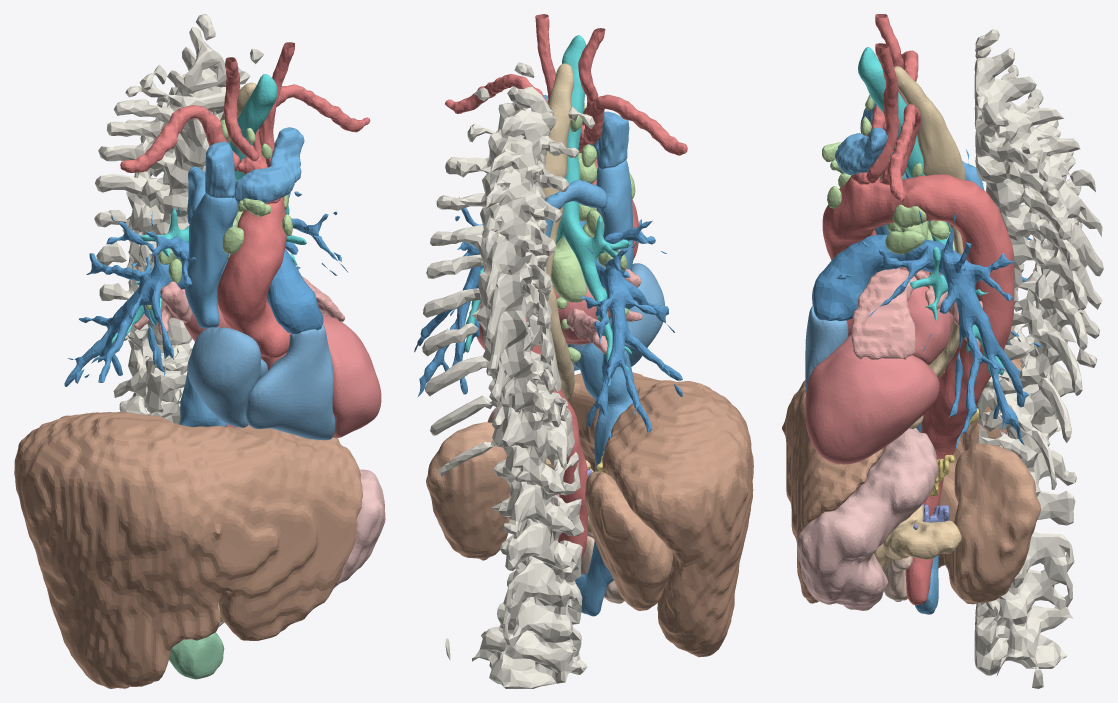
File: eus_b_anatomy.glb
The picture shows the model from 3 angles, left to right: view 1: azimuth 30°, elevation 25°; view 2: azimuth 150°, elevation 25°; view 3: azimuth 270°, elevation 25°; orthographic projection. The views are drawn at different scales.
Parts seen in each view (by area): view 1: liver, spine, pulmonary_artery, right_ventricle, aorta, right_atrium, left_ventricle, superior_vena_cava, left_brachiocephalic_vein, airway, stomach, right_subclavian_artery (+9 smaller); view 2: spine, liver, pulmonary_artery, left_kidney, right_kidney, airway, inferior_vena_cava, esophagus, superior_vena_cava, right_subclavian_artery, aorta, right_atrium (+10 smaller); view 3: spine, aorta, stomach, pulmonary_artery, left_ventricle, left_kidney, liver, left_atrial_appendage, esophagus, airway, pancreas, left_atrium (+13 smaller).
Part boxes in pixels (x1=…): liver: x1=14, y1=411, x2=362, y2=688; spine: x1=94, y1=14, x2=264, y2=627; pulmonary_artery: x1=64, y1=191, x2=348, y2=386; right_ventricle: x1=245, y1=324, x2=335, y2=440; aorta: x1=217, y1=197, x2=290, y2=427; right_atrium: x1=187, y1=327, x2=267, y2=427; left_ventricle: x1=261, y1=314, x2=381, y2=438; superior_vena_cava: x1=184, y1=193, x2=238, y2=328; left_brachiocephalic_vein: x1=235, y1=127, x2=304, y2=204; airway: x1=111, y1=74, x2=306, y2=343; stomach: x1=219, y1=469, x2=385, y2=605; right_subclavian_artery: x1=120, y1=105, x2=239, y2=172; spine: x1=422, y1=62, x2=594, y2=688; liver: x1=568, y1=372, x2=753, y2=657; pulmonary_artery: x1=414, y1=197, x2=682, y2=437; left_kidney: x1=426, y1=422, x2=521, y2=560; right_kidney: x1=585, y1=471, x2=672, y2=610; airway: x1=465, y1=35, x2=632, y2=381; inferior_vena_cava: x1=575, y1=342, x2=634, y2=616; esophagus: x1=536, y1=63, x2=574, y2=401; superior_vena_cava: x1=596, y1=160, x2=633, y2=270; right_subclavian_artery: x1=583, y1=94, x2=687, y2=155; aorta: x1=483, y1=158, x2=638, y2=560; right_atrium: x1=567, y1=263, x2=664, y2=369; spine: x1=974, y1=29, x2=1103, y2=688; aorta: x1=822, y1=174, x2=1014, y2=604; stomach: x1=797, y1=428, x2=938, y2=610; pulmonary_artery: x1=813, y1=149, x2=1040, y2=450; left_ventricle: x1=805, y1=335, x2=939, y2=464; left_kidney: x1=943, y1=443, x2=1040, y2=604; liver: x1=782, y1=344, x2=1023, y2=603; left_atrial_appendage: x1=851, y1=268, x2=916, y2=359; esophagus: x1=894, y1=66, x2=965, y2=428; airway: x1=858, y1=47, x2=1003, y2=376; pancreas: x1=874, y1=505, x2=961, y2=571; left_atrium: x1=899, y1=267, x2=952, y2=365.
Size of the model in its own units: 233 by 421 by 192.
